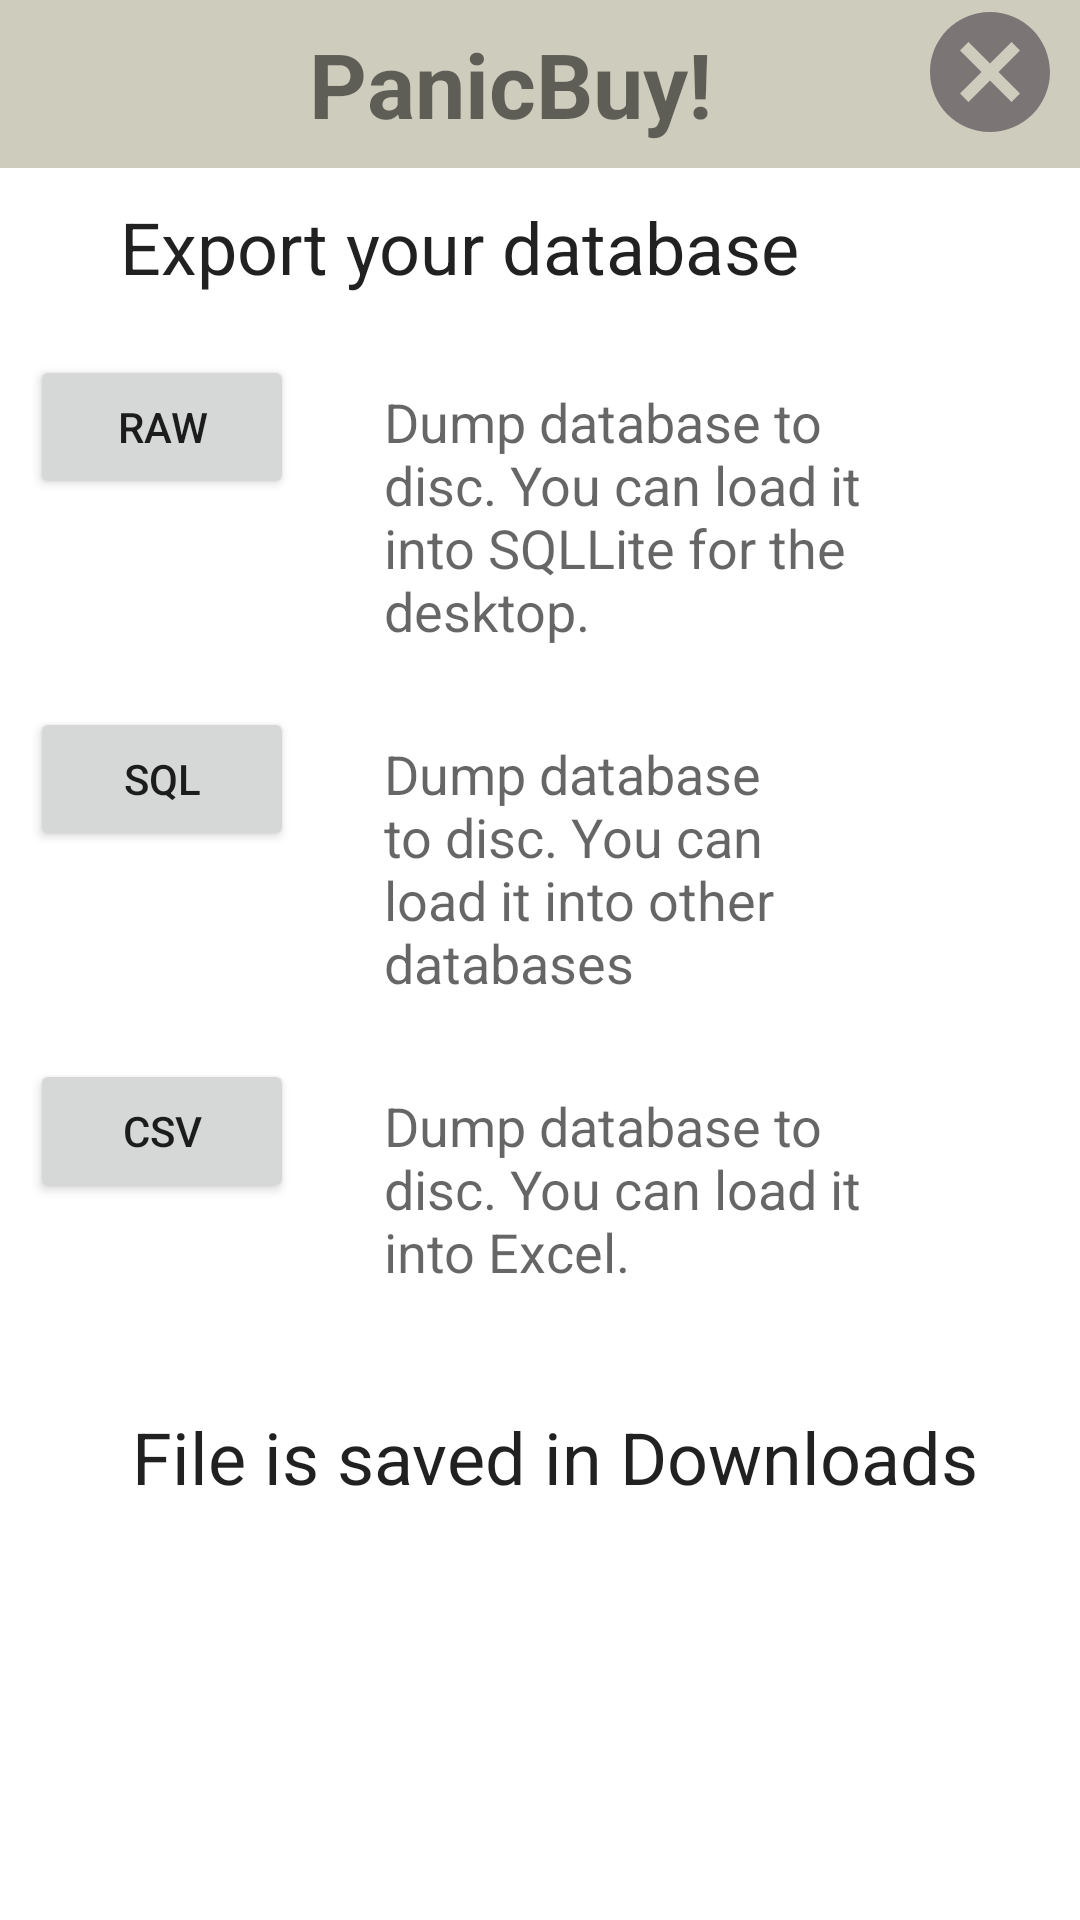

Locate icon controls on the screen. Image size 1080×1920, boxes as (x1, y1, x2, y2).
cancel: (930, 12, 1050, 132)
